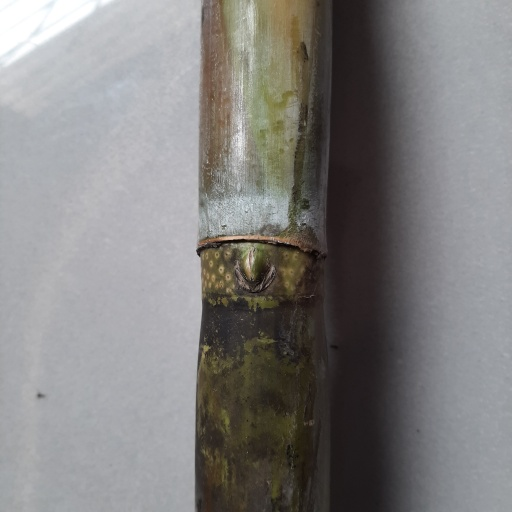Bud: (237, 246, 268, 285)
